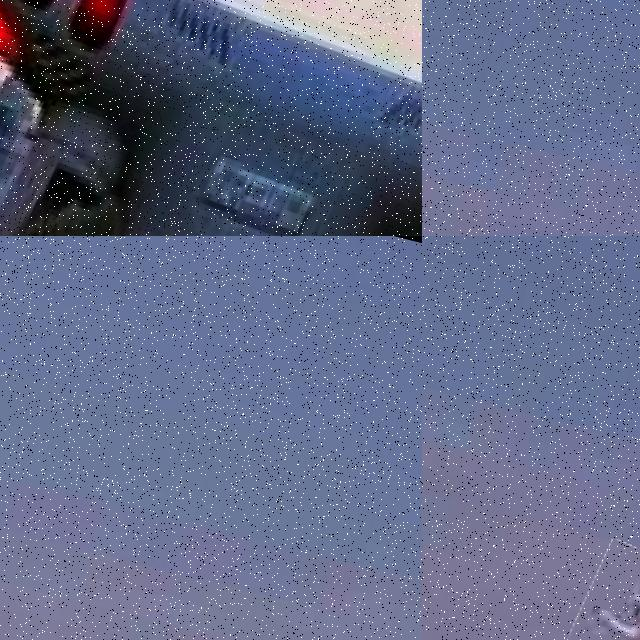drone: (0, 0, 422, 236), (556, 537, 640, 640)
